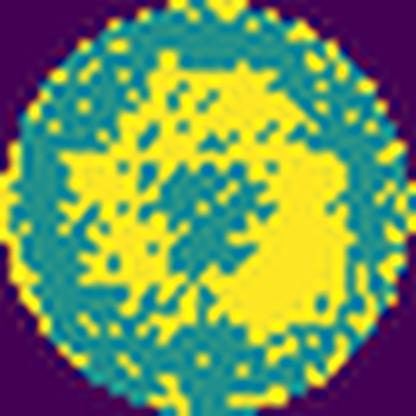Donut: (52, 46, 362, 352)
